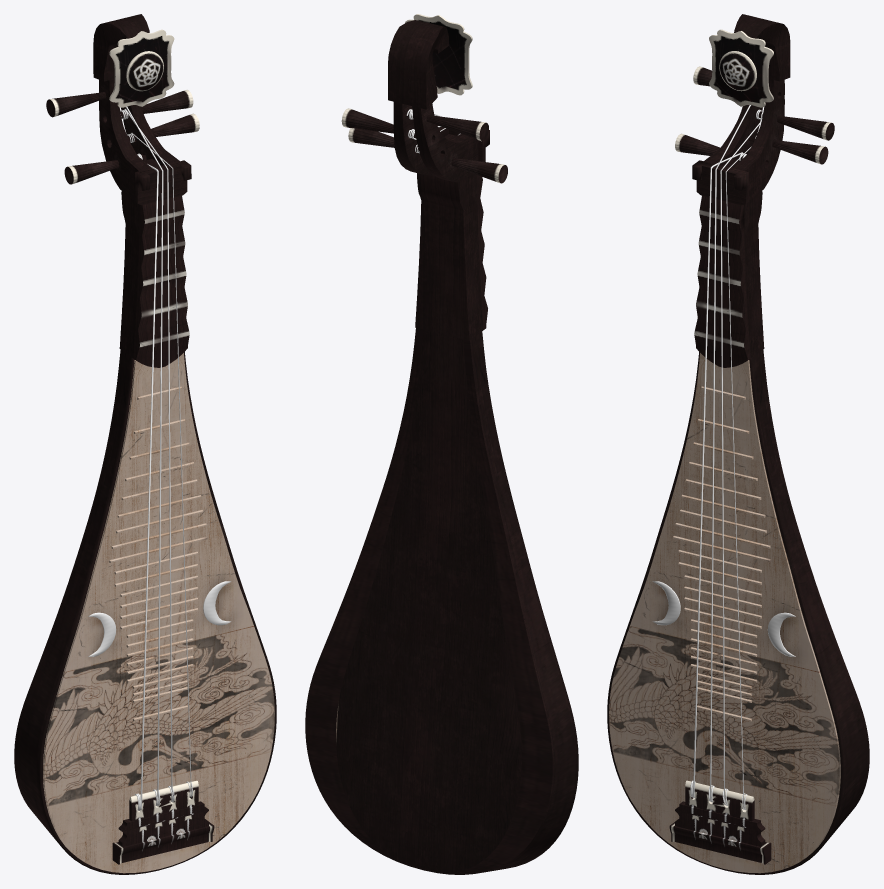
File: pipa2.FBX
3 views of the same model, side by side, from view 1: azimuth 30°, elevation 25°; view 2: azimuth 150°, elevation 25°; view 3: azimuth 330°, elevation 25° (orthographic). The views are drawn at different scales.
Visible parts, largest first — view 1: Archmodels67_11; view 2: Archmodels67_11; view 3: Archmodels67_11.
Boxes of the visible parts, <box> form: Archmodels67_11: <box>14,14,276,874</box>; Archmodels67_11: <box>305,14,578,874</box>; Archmodels67_11: <box>607,14,869,874</box>.
Bounding box in the file's own units: 10.06 × 33.58 × 4.09.
Materials: 1 (1 with a texture image).
